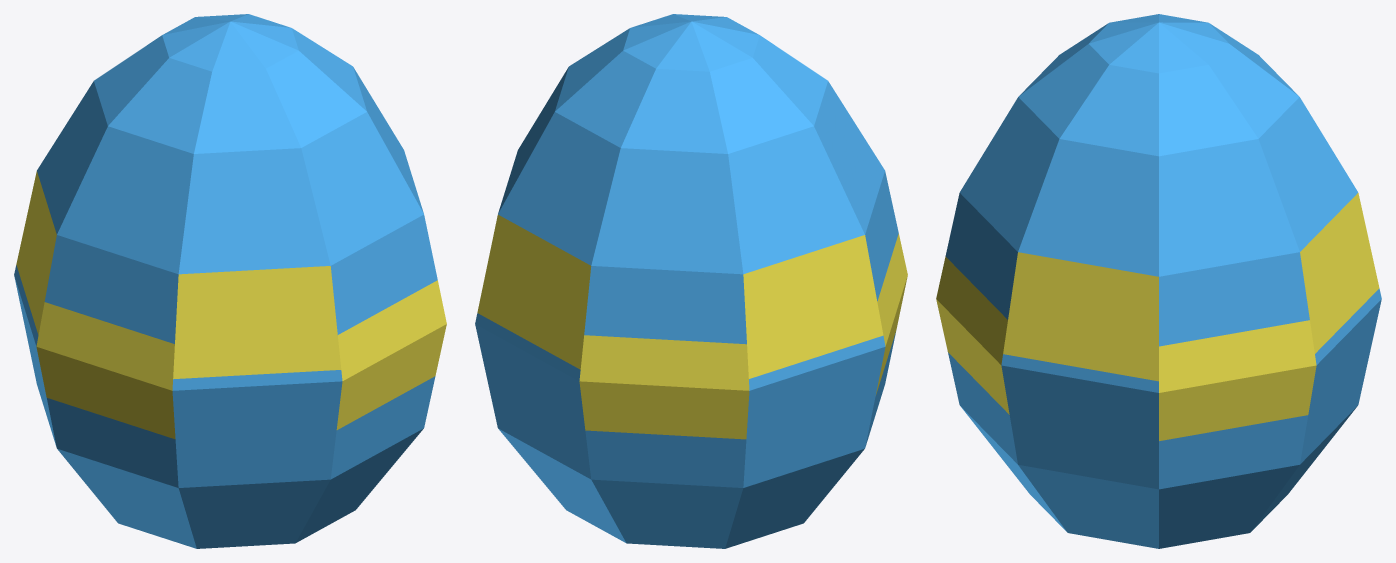
The model's file is ZigzagEasterEgg.fbx.
3 renders of one model, left to right at view 1: azimuth 30°, elevation 25°; view 2: azimuth 150°, elevation 25°; view 3: azimuth 270°, elevation 25°, orthographic.
Visible parts, largest first — view 1: ZigzagEasterEgg; view 2: ZigzagEasterEgg; view 3: ZigzagEasterEgg.
Part boxes in pixels (bbox=[...]): ZigzagEasterEgg: bbox=[14, 14, 446, 548]; ZigzagEasterEgg: bbox=[475, 14, 907, 548]; ZigzagEasterEgg: bbox=[936, 14, 1381, 548].
Size of the model in its own units: 1.9 by 2.3 by 1.9.
1 material, 1 textured.
